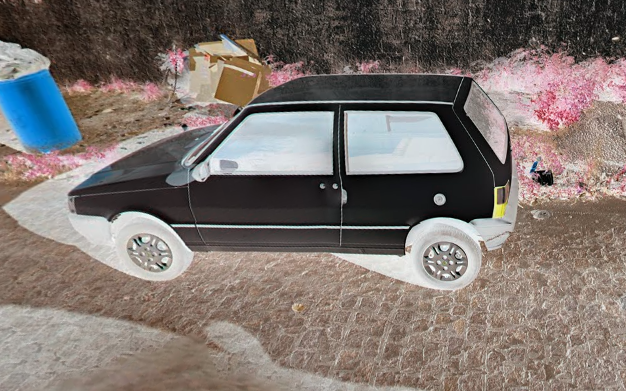car: (65, 73, 523, 292)
